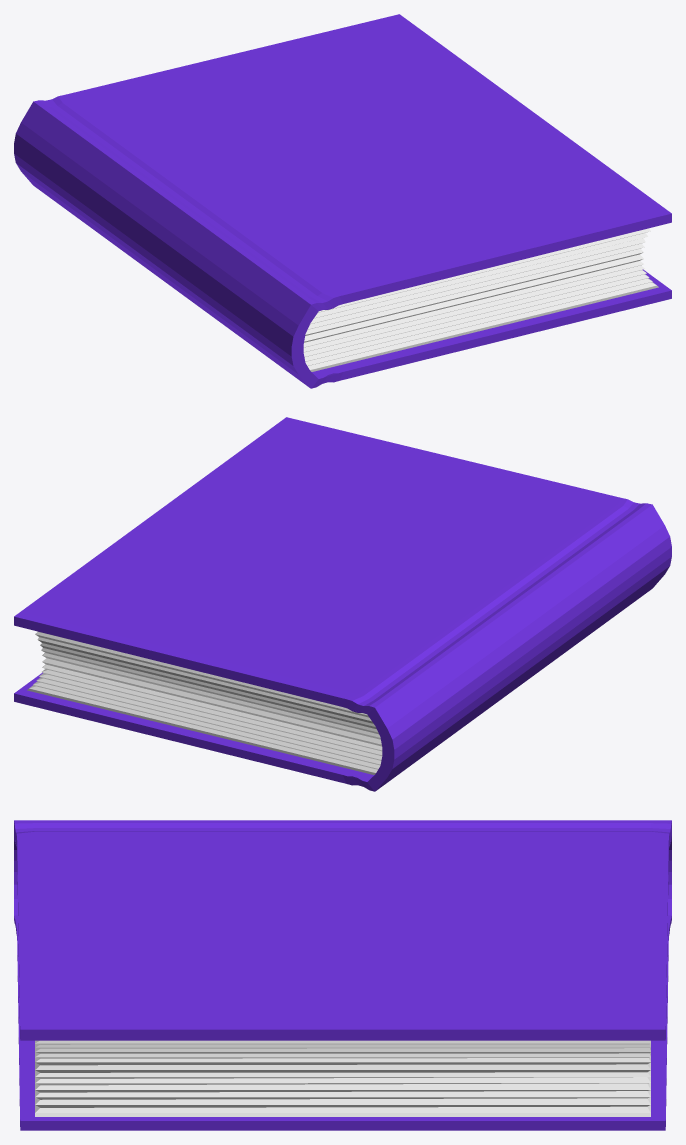
3 renders of one model, top to bottom at view 1: azimuth 30°, elevation 25°; view 2: azimuth 150°, elevation 25°; view 3: azimuth 270°, elevation 25°, orthographic. The views are drawn at different scales.
Visible parts, largest first — view 1: Cube, Cube.001; view 2: Cube, Cube.001; view 3: Cube, Cube.001.
Boxes of the visible parts, <box> form: Cube: <box>14,14,671,388</box>; Cube.001: <box>303,228,658,371</box>; Cube: <box>14,417,671,791</box>; Cube.001: <box>27,631,382,774</box>; Cube: <box>14,820,671,1130</box>; Cube.001: <box>35,1040,650,1116</box>.
Bounding box in the file's own units: 1.7 × 0.3619 × 2.14.
